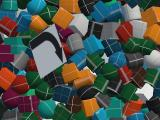Right: (29, 23, 67, 79)
